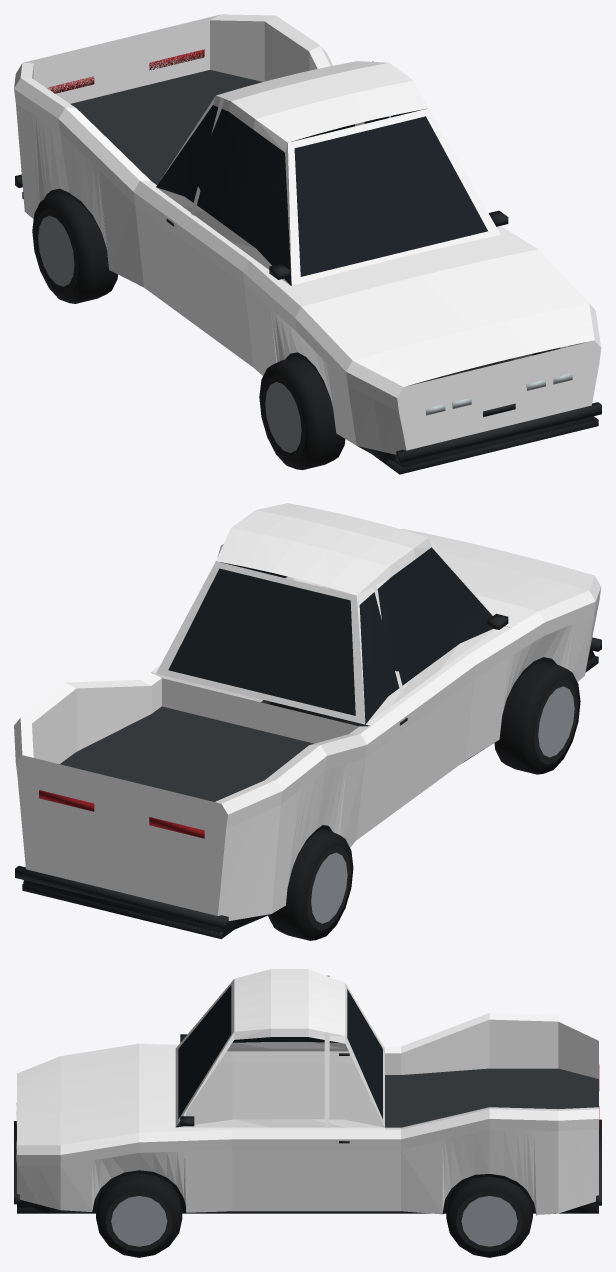
Rendered from garrison_martelo.glb.
3 renders of one model, top to bottom at view 1: azimuth 30°, elevation 25°; view 2: azimuth 150°, elevation 25°; view 3: azimuth 270°, elevation 25°, orthographic. The views are drawn at different scales.
Parts seen in each view (by area): view 1: Body_Paint, Body_Details, Mount_FrontLeft_Wheel_Details, Mount_RearLeft_Wheel_Details; view 2: Body_Paint, Body_Details, Mount_FrontLeft_Wheel_Details, Mount_RearLeft_Wheel_Details; view 3: Body_Paint, Body_Details, Mount_FrontRight_Wheel_Details, Mount_RearRight_Wheel_Details.
Boxes of the visible parts, x1,y1,x2,y2 form: Body_Paint: (14, 14, 601, 454); Body_Details: (15, 49, 601, 474); Mount_FrontLeft_Wheel_Details: (259, 356, 345, 470); Mount_RearLeft_Wheel_Details: (32, 193, 117, 303); Body_Paint: (14, 503, 601, 920); Body_Details: (15, 547, 601, 939); Mount_FrontLeft_Wheel_Details: (494, 661, 580, 774); Mount_RearLeft_Wheel_Details: (268, 829, 353, 940); Body_Paint: (17, 969, 598, 1214); Body_Details: (14, 985, 601, 1215); Mount_FrontRight_Wheel_Details: (96, 1173, 182, 1257); Mount_RearRight_Wheel_Details: (446, 1176, 532, 1257).
Size of the model in its own units: 2.28 by 2.19 by 5.51.
Materials: 2 (1 with a texture image).
